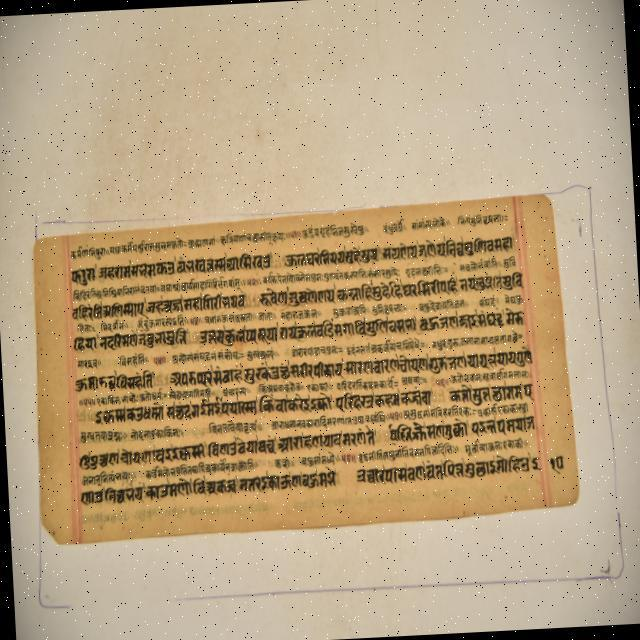text_paragraph: (34, 196, 578, 540)
